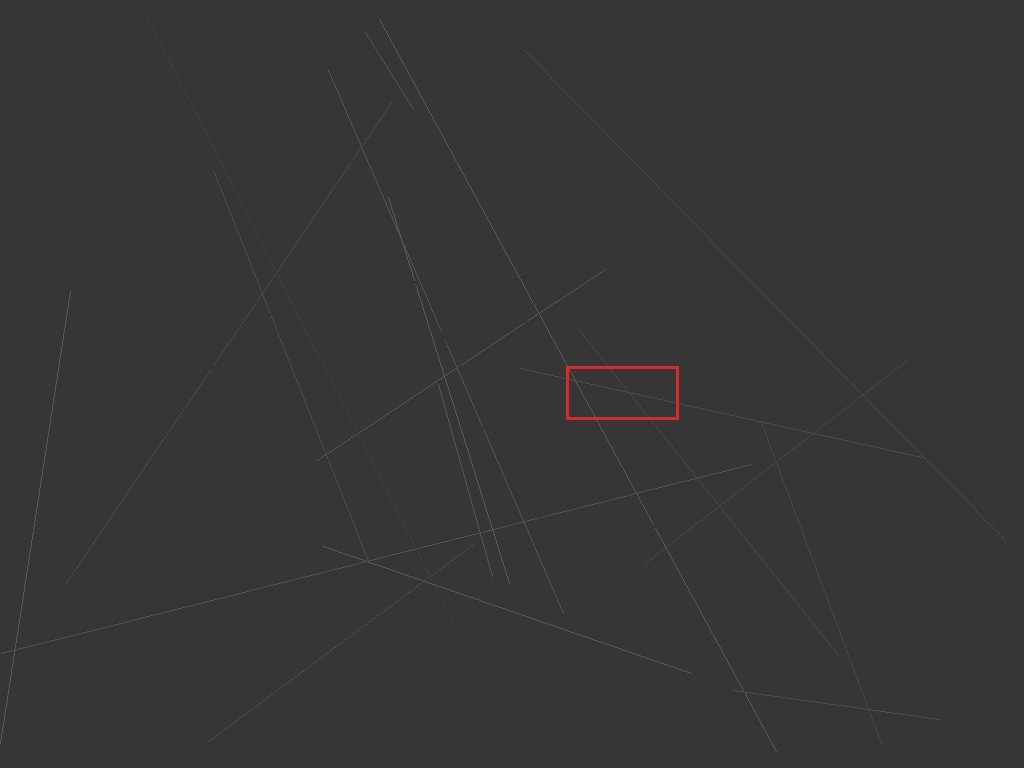D40: (566, 366, 678, 419)
